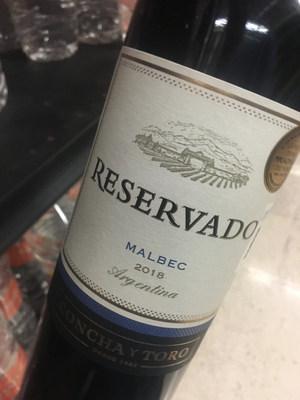reservado malbec: (51, 24, 286, 400)
